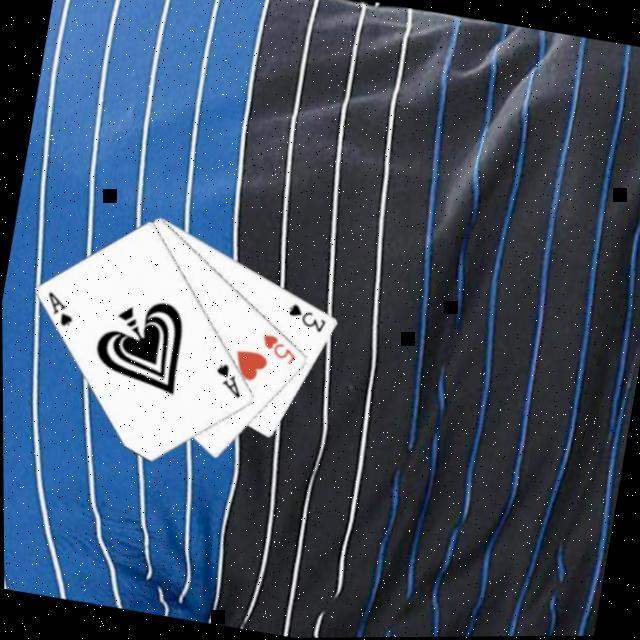3S: (280, 300, 328, 338)
5H: (252, 332, 299, 371)
AS: (36, 288, 77, 332), (206, 360, 245, 403)
